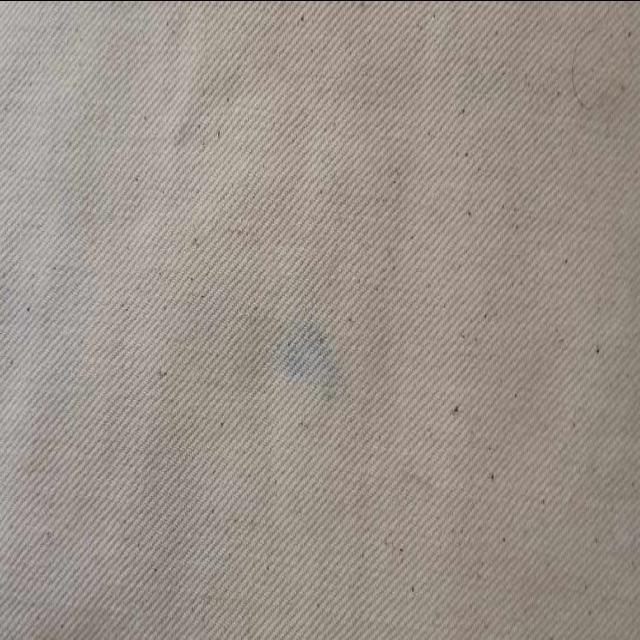taaaches: (246, 271, 362, 431)
